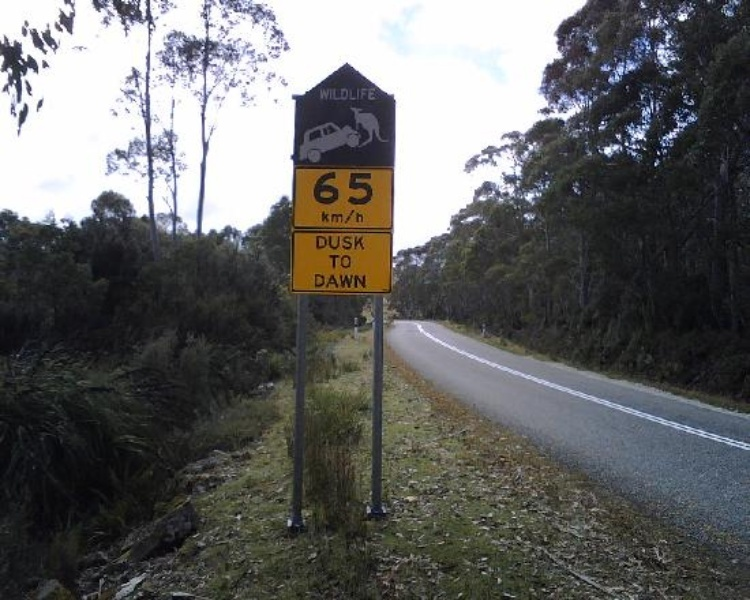text: (321, 172, 336, 206), (337, 172, 352, 206), (353, 172, 368, 206), (321, 209, 336, 226), (337, 209, 352, 226), (321, 273, 336, 290), (337, 273, 352, 290), (321, 235, 336, 251), (337, 235, 352, 251), (353, 273, 367, 290), (337, 254, 352, 269), (353, 235, 366, 251), (314, 172, 320, 206), (321, 88, 336, 101), (337, 88, 352, 101), (353, 88, 368, 101), (369, 172, 374, 206), (353, 209, 363, 226), (328, 254, 336, 269), (313, 273, 320, 290), (369, 88, 377, 101), (316, 235, 320, 251), (318, 88, 320, 101), (353, 254, 354, 269)
